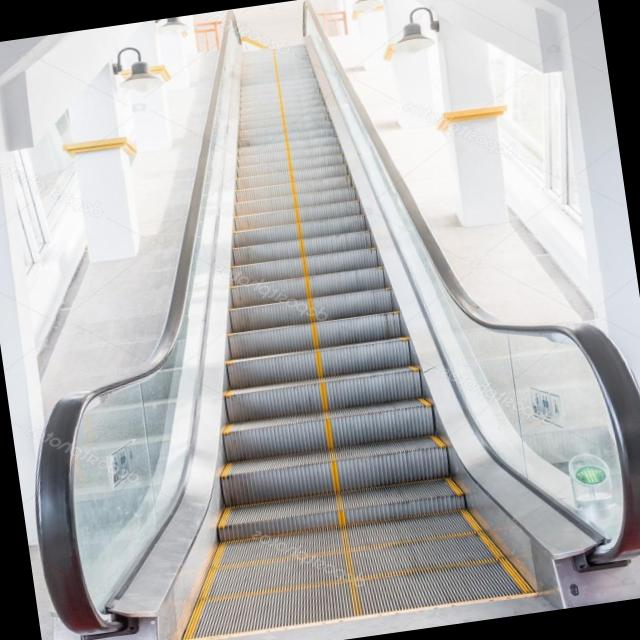escalator: (22, 0, 640, 640)
